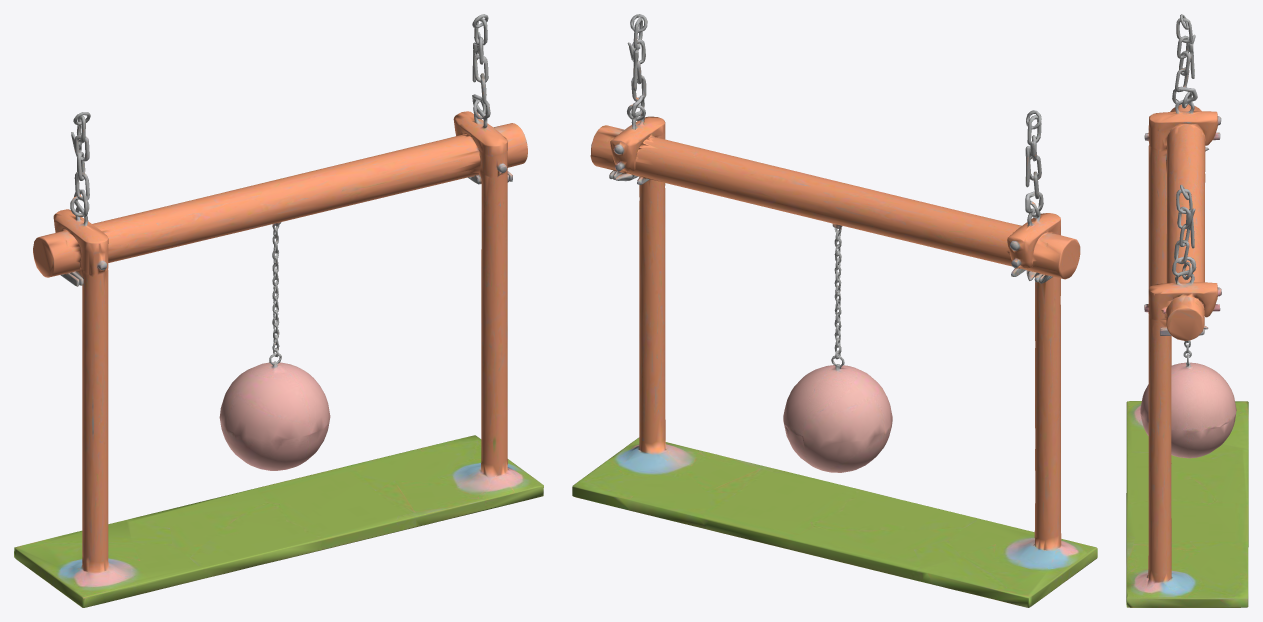
Rendered from swingingPendulum.4a128bef.glb.
3 views of the same model, side by side, from view 1: azimuth 30°, elevation 25°; view 2: azimuth 150°, elevation 25°; view 3: azimuth 270°, elevation 25° (orthographic). The views are drawn at different scales.
Size of the model in its own units: 1.9 by 1.79 by 0.4856.
1 material, 1 textured.
